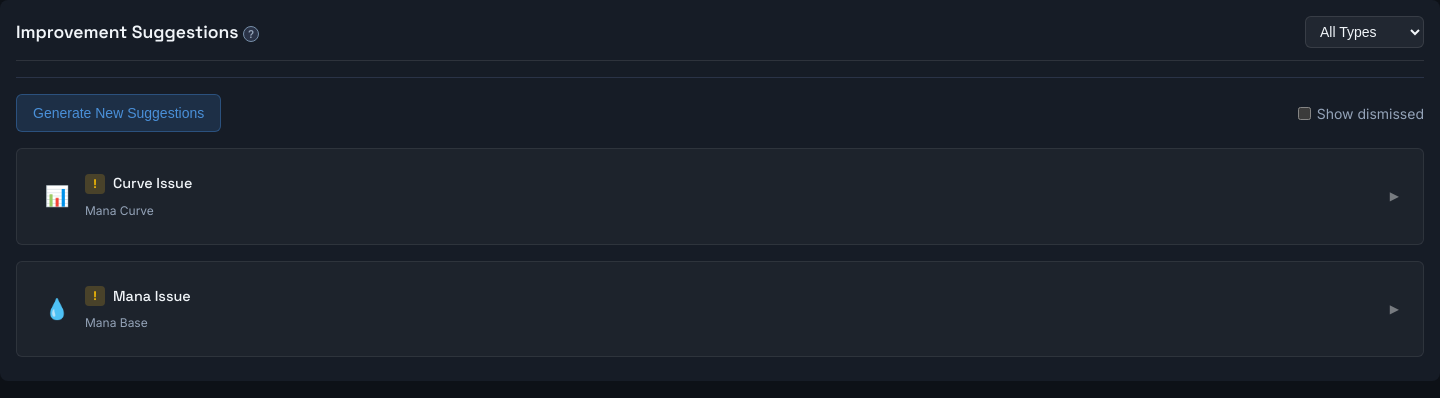
Test: ImprovementSuggestionsPanel › Filter by Type › should filter suggestions by type
Expected: the heading "Curve Issue" is shown, [113,173,192,195]
Expected: the heading "Mana Issue" is shown, [113,286,191,307]
// Filter by curve
Select "Mana Curve" in the dropdown with test id "suggestions-type-filter" at [1364, 32], box [1305,16,1424,48]
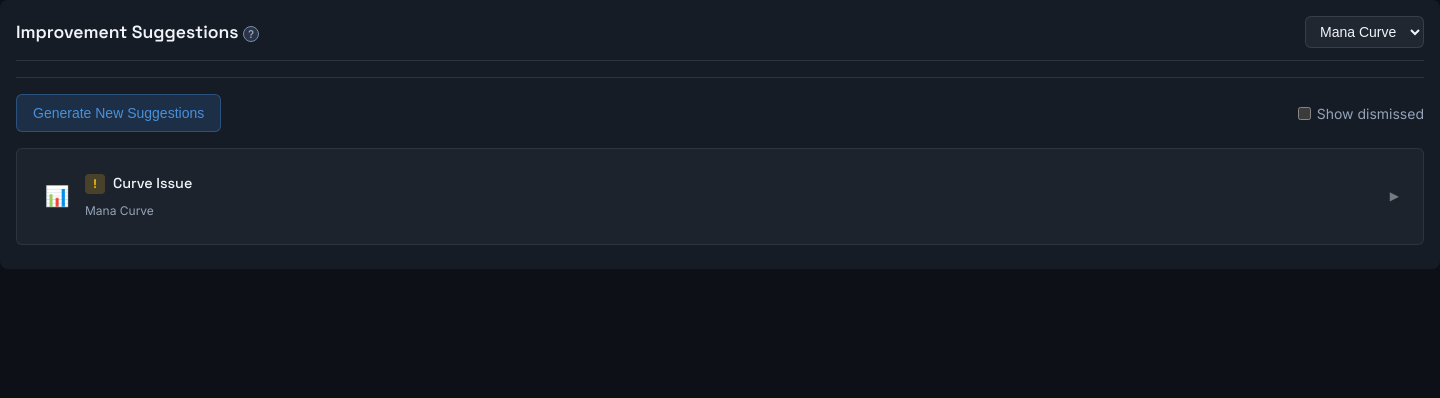
Expected: the heading "Curve Issue" is shown, [113,173,192,195]
Now the heading "Mana Issue" is gone
